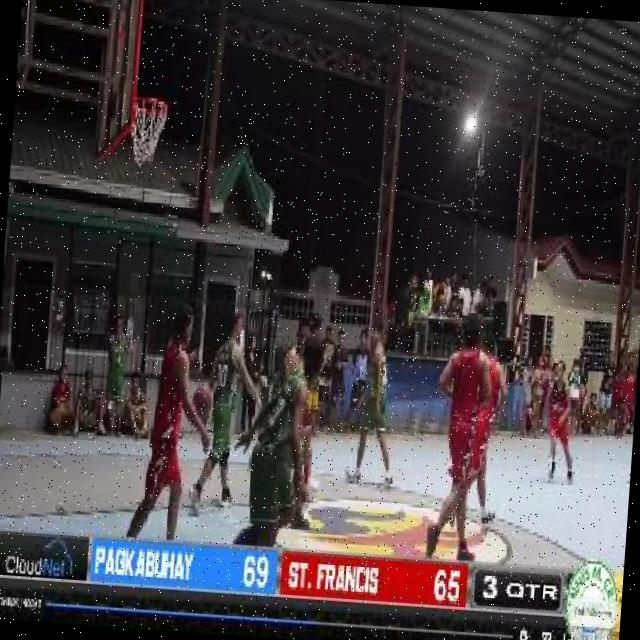ball: (188, 380, 214, 428)
hoop: (135, 92, 171, 120)
